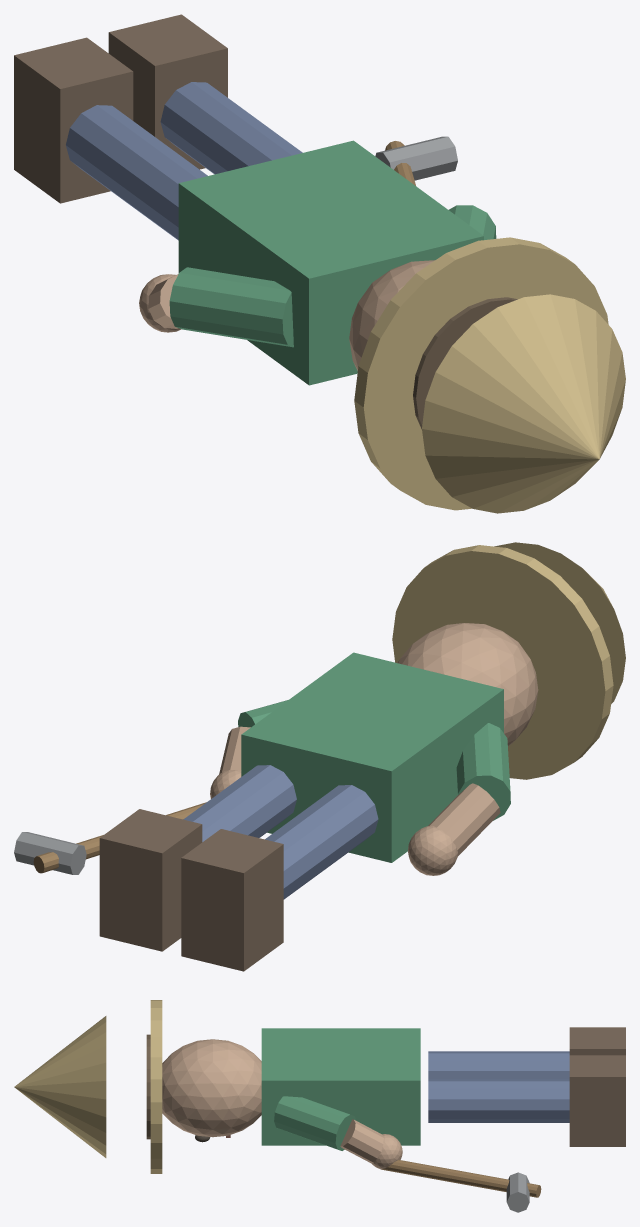
The model's file is petani_farm_life.glb.
3 renders of one model, top to bottom at view 1: azimuth 30°, elevation 25°; view 2: azimuth 150°, elevation 25°; view 3: azimuth 270°, elevation 25°, orthographic. The views are drawn at different scales.
Visible parts, largest first — view 1: shirt_torso, caping_cone, caping_brim, left_boot, left_leg, right_boot, left_upper_arm, right_leg, hat_band, head, hoe_blade, left_forearm (+2 smaller); view 2: shirt_torso, caping_brim, left_boot, right_boot, head, left_leg, right_leg, caping_cone, left_upper_arm, left_forearm, left_hand, hoe_blade (+2 smaller); view 3: shirt_torso, head, caping_cone, right_leg, right_boot, left_leg, right_upper_arm, caping_brim, hoe_handle, left_boot, right_forearm, hoe_blade (+2 smaller).
Boxes of the visible parts, x1,y1,x2,y2 form: shirt_torso: [178, 140, 483, 385]; caping_cone: [422, 294, 625, 513]; caping_brim: [354, 237, 608, 510]; left_boot: [14, 37, 133, 203]; left_leg: [66, 105, 207, 240]; right_boot: [108, 14, 227, 169]; left_upper_arm: [169, 267, 293, 347]; right_leg: [160, 82, 302, 174]; hat_band: [413, 297, 517, 429]; head: [349, 260, 434, 370]; hoe_blade: [375, 136, 457, 180]; left_forearm: [148, 274, 178, 328]; shirt_torso: [241, 652, 503, 862]; caping_brim: [392, 545, 613, 779]; left_boot: [181, 829, 283, 971]; right_boot: [99, 809, 202, 951]; head: [398, 623, 538, 746]; left_leg: [265, 785, 378, 899]; right_leg: [183, 765, 296, 841]; caping_cone: [494, 542, 625, 704]; left_upper_arm: [456, 723, 510, 820]; left_forearm: [428, 783, 500, 856]; left_hand: [408, 825, 457, 875]; hoe_blade: [14, 832, 86, 874]; shirt_torso: [261, 1028, 420, 1145]; head: [162, 1039, 261, 1137]; caping_cone: [14, 1016, 106, 1157]; right_leg: [428, 1079, 569, 1122]; right_boot: [569, 1055, 625, 1146]; left_leg: [428, 1051, 569, 1079]; right_upper_arm: [274, 1096, 355, 1150]; caping_brim: [150, 1000, 162, 1173]; hoe_handle: [381, 1160, 541, 1197]; left_boot: [569, 1027, 625, 1055]; right_forearm: [340, 1119, 383, 1163]; hoe_blade: [506, 1172, 529, 1212].
Size of the model in its own units: 1.16 by 0.68 by 2.38.
